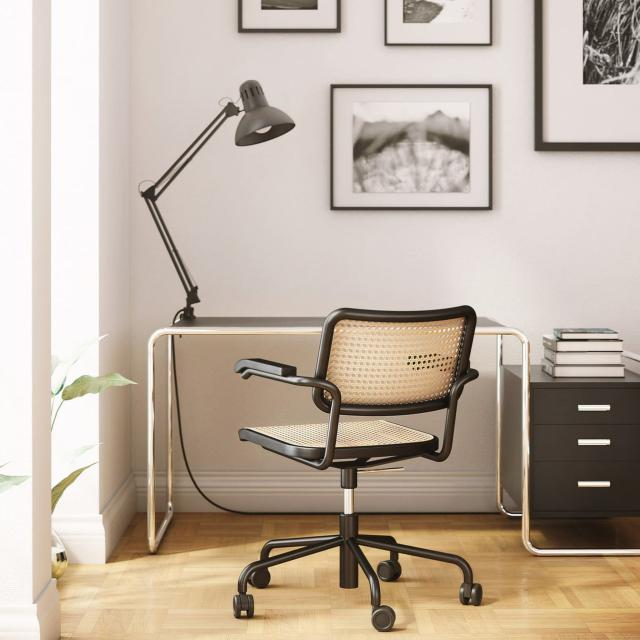chair: (232, 304, 483, 632)
